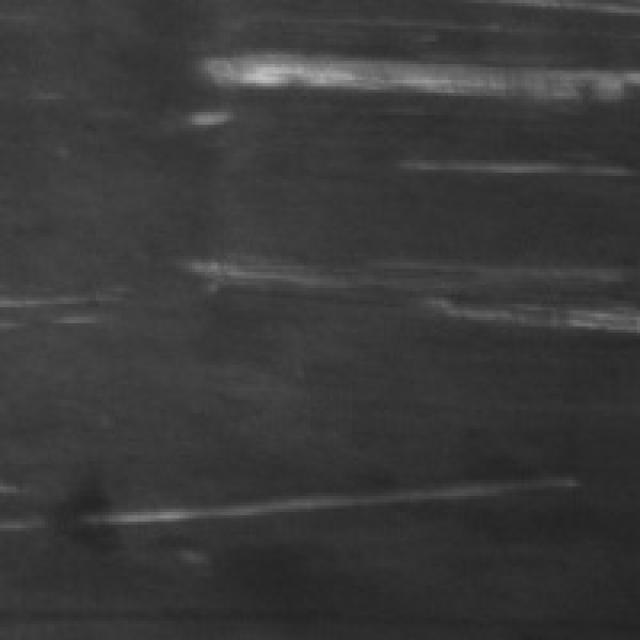scratches: (154, 35, 636, 122), (166, 246, 637, 326), (73, 467, 570, 525), (390, 140, 630, 186)
